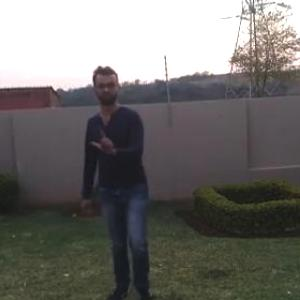land_hand: (89, 119, 123, 159)
